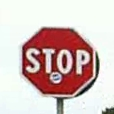stop: (20, 25, 96, 99)
